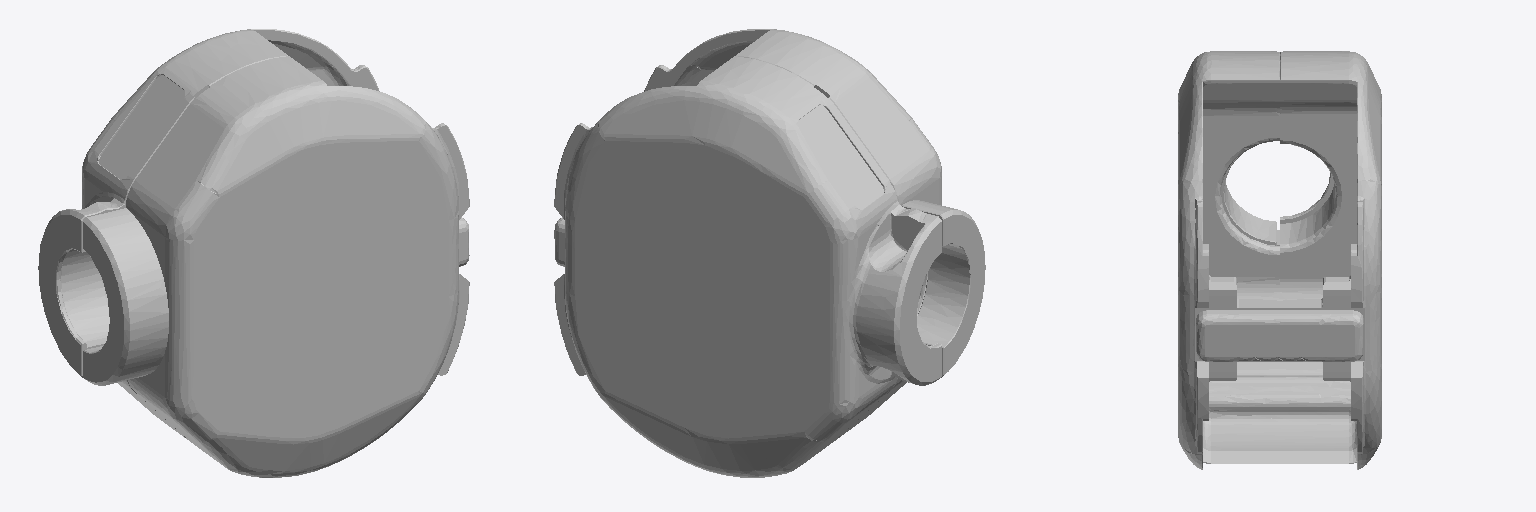
File: palm_H_UV_100430.obj
3 views of the same model, side by side, from view 1: azimuth 30°, elevation 25°; view 2: azimuth 150°, elevation 25°; view 3: azimuth 270°, elevation 25° (orthographic).
Visible parts, largest first — view 1: palm_H_palm_HShape; view 2: palm_H_palm_HShape; view 3: palm_H_palm_HShape.
Boxes of the visible parts, <box> form: palm_H_palm_HShape: <box>38,29,469,477</box>; palm_H_palm_HShape: <box>554,29,985,477</box>; palm_H_palm_HShape: <box>1178,51,1381,469</box>.
Bounding box in the file's own units: 0.0961 × 0.102 × 0.0485.